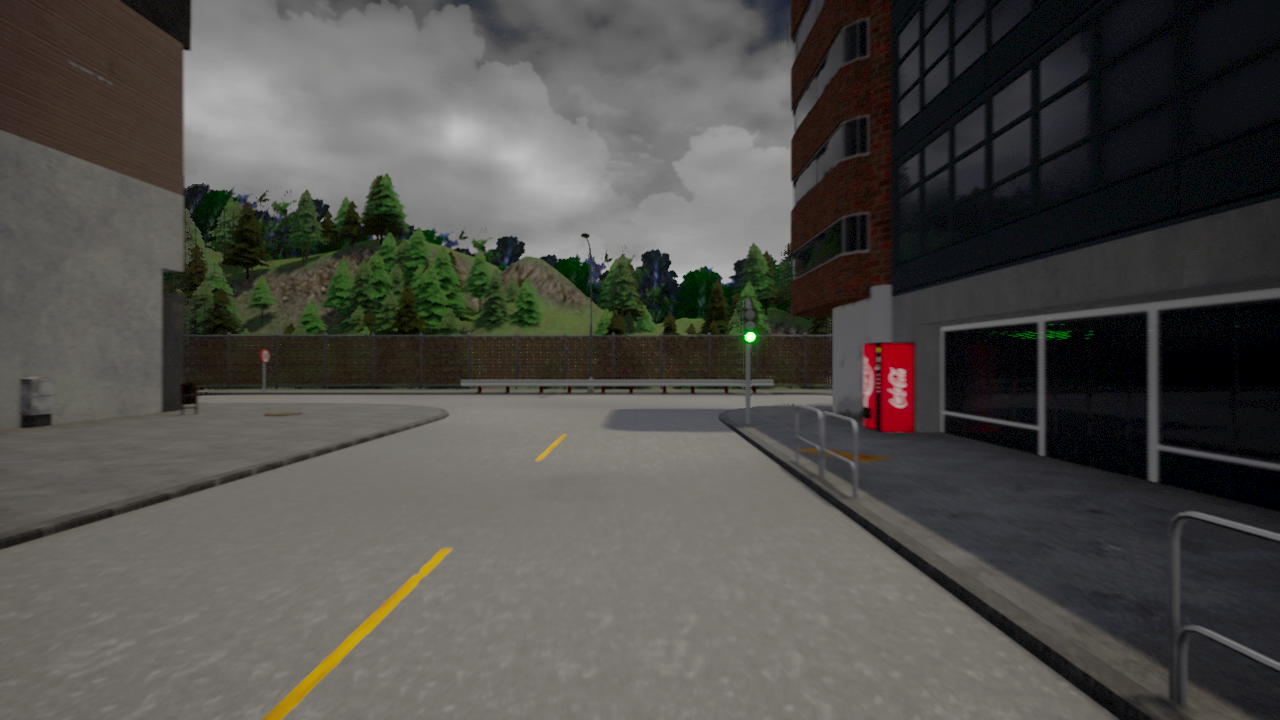green: (742, 307, 758, 344)
